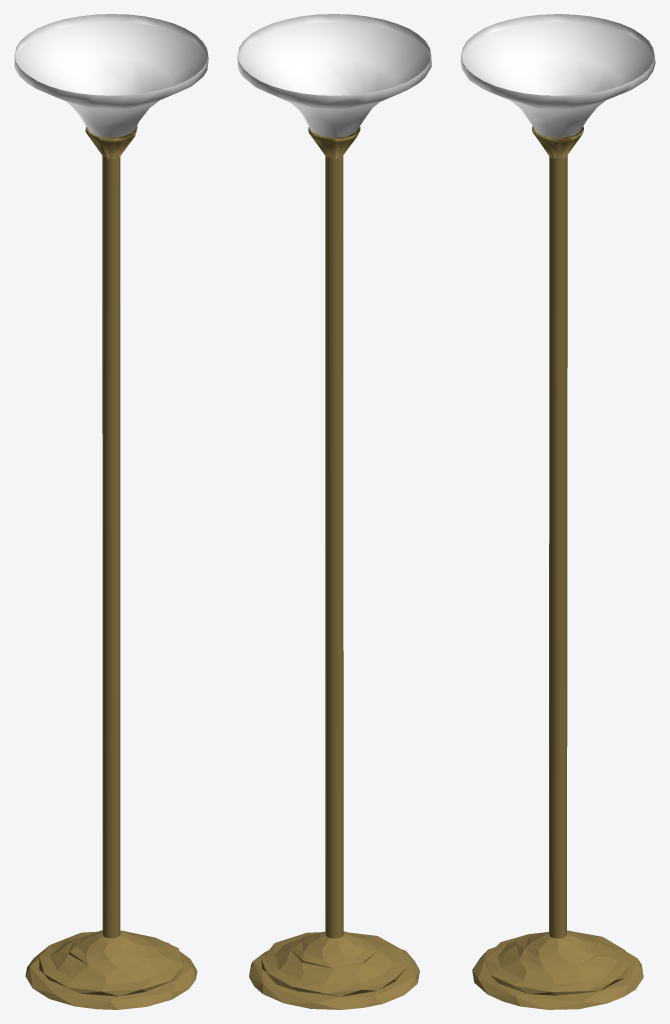
Rendered from standing_lamp.dae.
3 renders of one model, left to right at view 1: azimuth 30°, elevation 25°; view 2: azimuth 150°, elevation 25°; view 3: azimuth 270°, elevation 25°, orthographic.
Parts seen in each view (by area): view 1: geometry-lumionModel, geometry-lumionModel.001, geometry-lumionModel.002; view 2: geometry-lumionModel, geometry-lumionModel.001, geometry-lumionModel.002; view 3: geometry-lumionModel, geometry-lumionModel.001, geometry-lumionModel.002.
Part boxes in pixels (<box>): geometry-lumionModel: <box>14,14,208,137</box>; geometry-lumionModel.001: <box>85,126,137,938</box>; geometry-lumionModel.002: <box>25,930,197,1009</box>; geometry-lumionModel: <box>237,14,431,137</box>; geometry-lumionModel.001: <box>308,126,360,938</box>; geometry-lumionModel.002: <box>249,931,419,1009</box>; geometry-lumionModel: <box>460,14,655,137</box>; geometry-lumionModel.001: <box>532,126,583,938</box>; geometry-lumionModel.002: <box>472,930,643,1009</box>.
Bounding box in the file's own units: 0.3247 × 0.3247 × 1.69.
